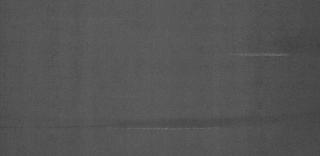scratches: (56, 110, 308, 138)
